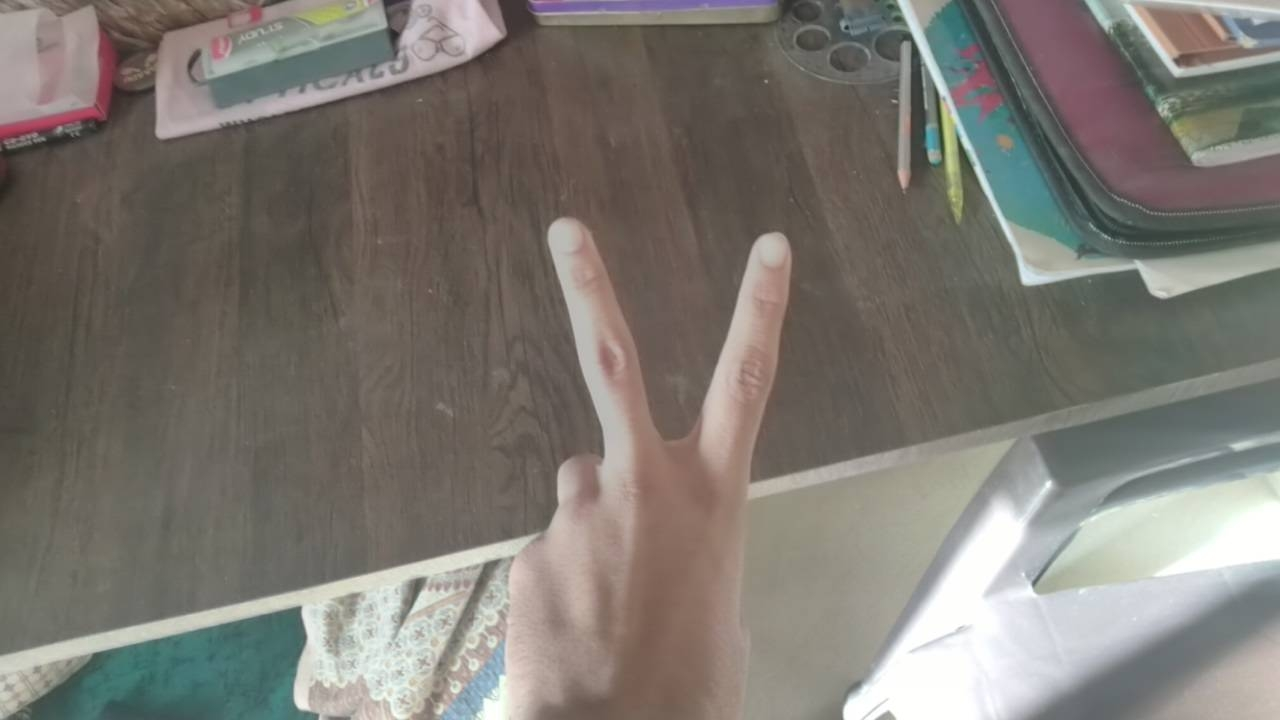fingertip: (742, 222, 804, 286), (538, 210, 608, 266)
